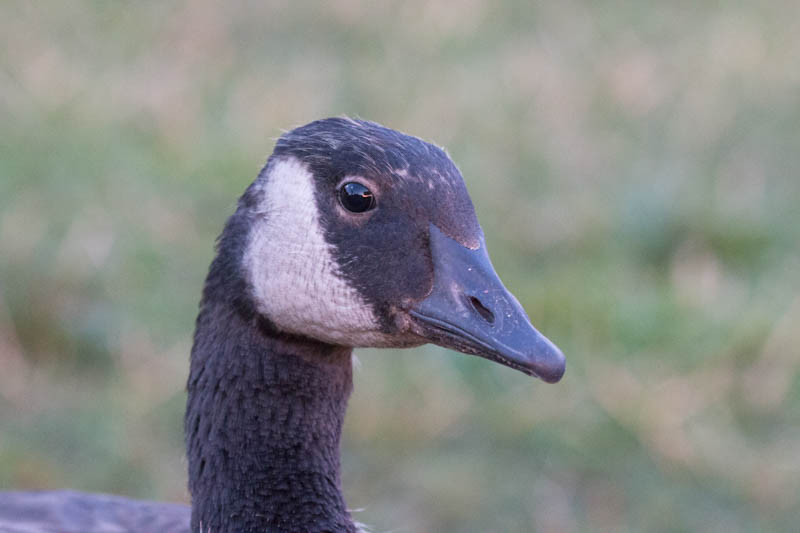goose-head: (211, 116, 566, 388)
